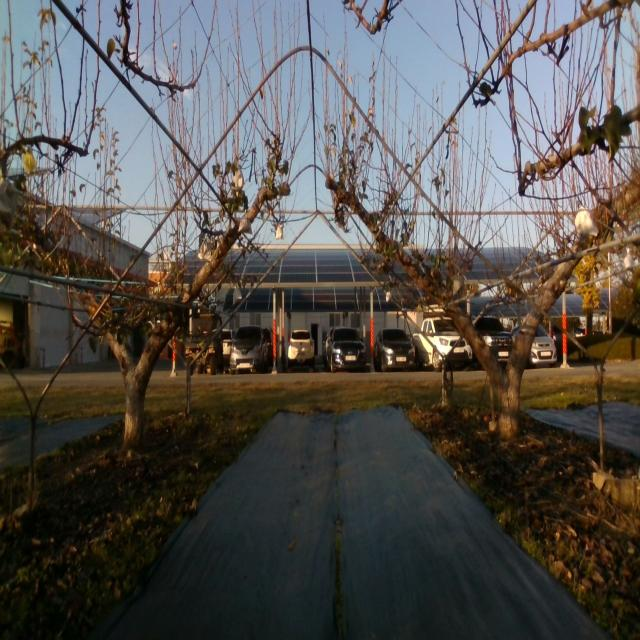pearbags: (0, 178, 17, 230), (575, 207, 599, 239), (200, 238, 215, 263), (233, 168, 245, 192), (239, 214, 252, 234), (453, 276, 464, 297)
